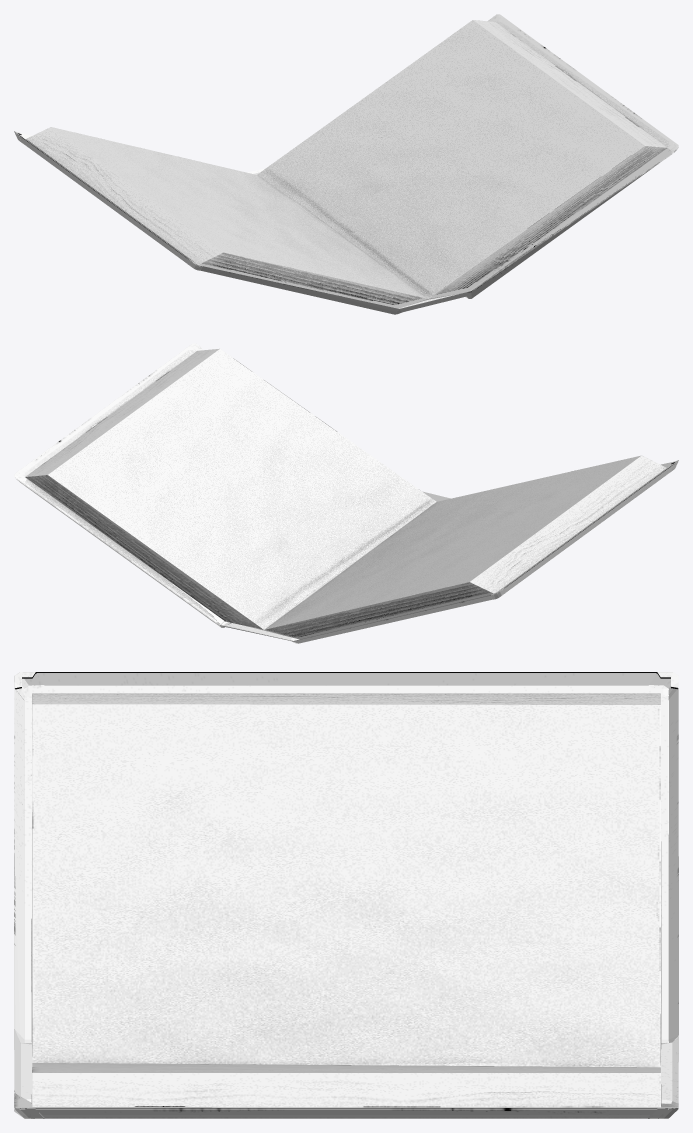
Rendered from Basic Spell Book.fbx.
The picture shows the model from 3 angles, top to bottom: view 1: azimuth 30°, elevation 25°; view 2: azimuth 150°, elevation 25°; view 3: azimuth 270°, elevation 25°; orthographic projection. The views are drawn at different scales.
Visible parts, largest first — view 1: LowPolyBook; view 2: LowPolyBook; view 3: LowPolyBook.
Part boxes in pixels (x1,y1,x2,y2): LowPolyBook: [14, 14, 678, 314]; LowPolyBook: [14, 343, 678, 643]; LowPolyBook: [14, 672, 678, 1118].
Bounding box in the file's own units: 652 × 139 × 423.
Materials: 1 (1 with a texture image).
